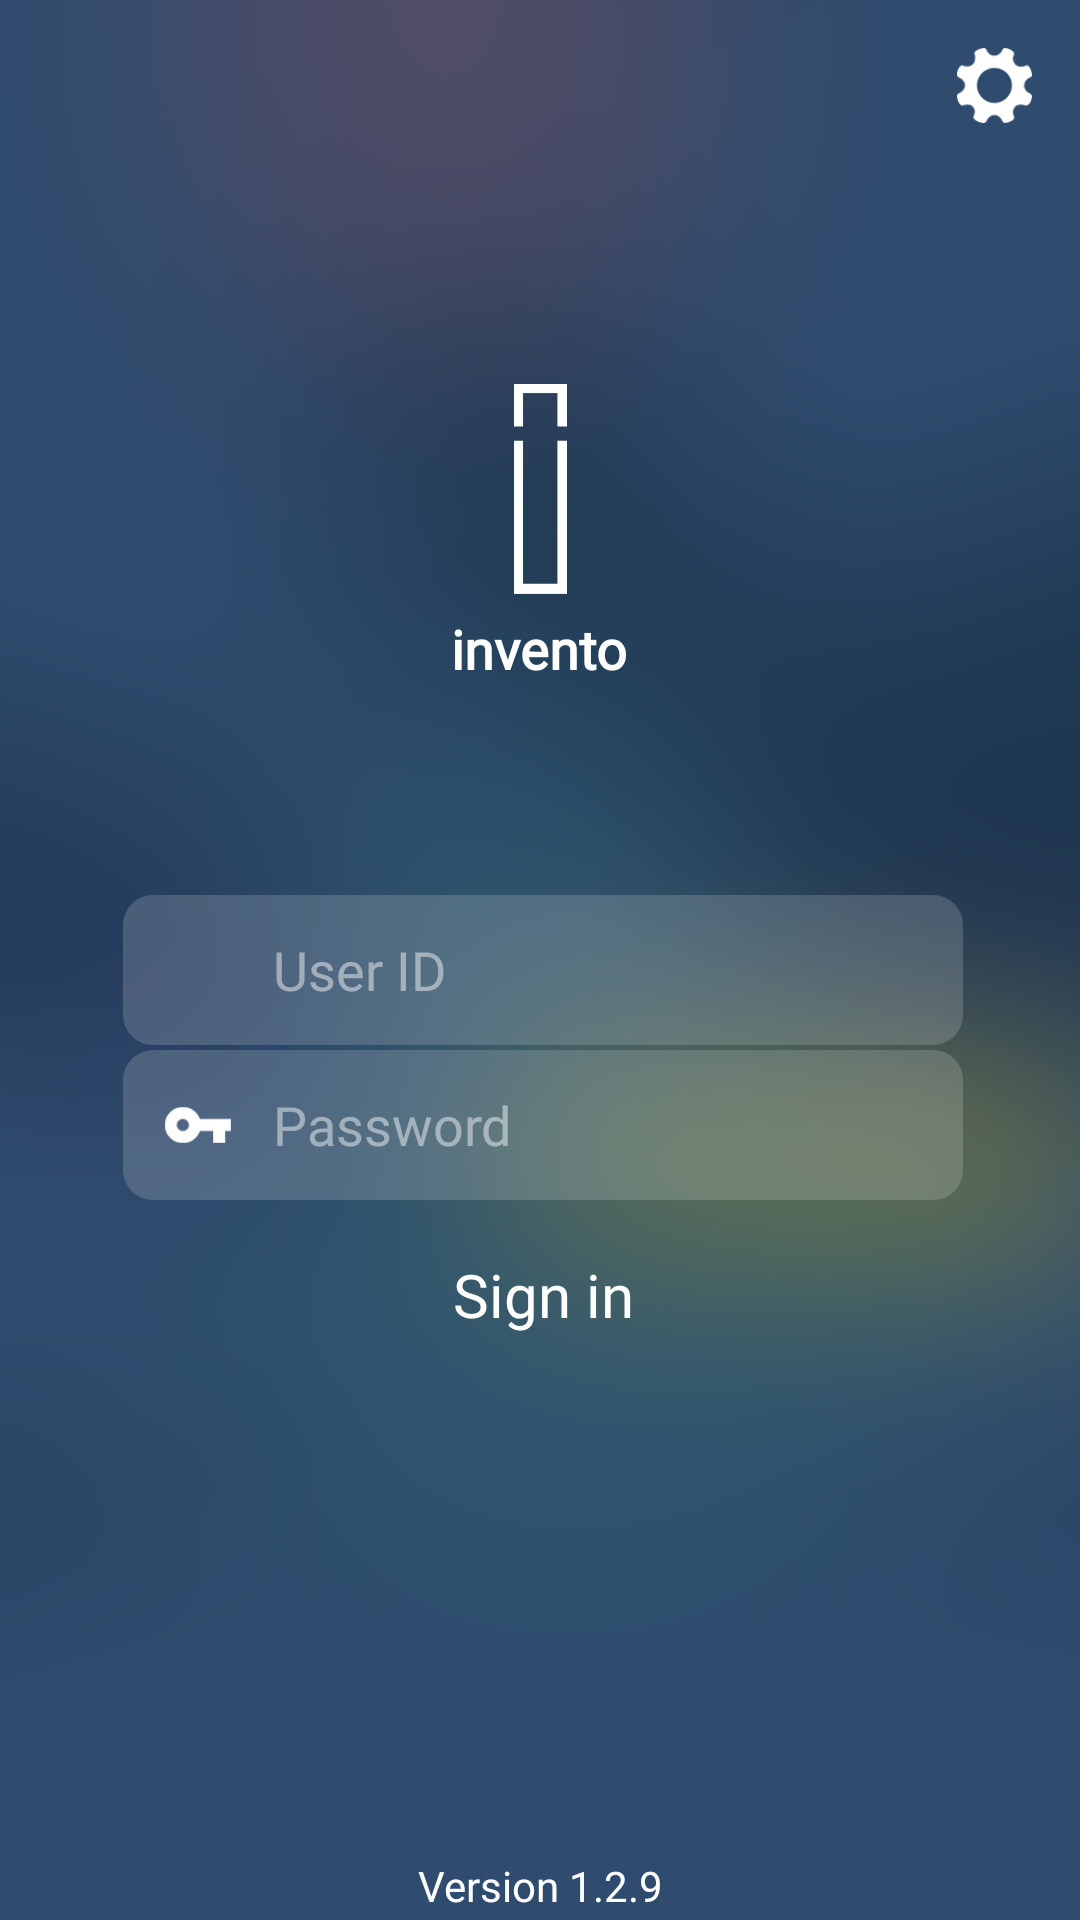

Point at icon controls on the screen. Image size 1080 x 1920, points as (x=x, y=y).
settings: (x=994, y=85)
